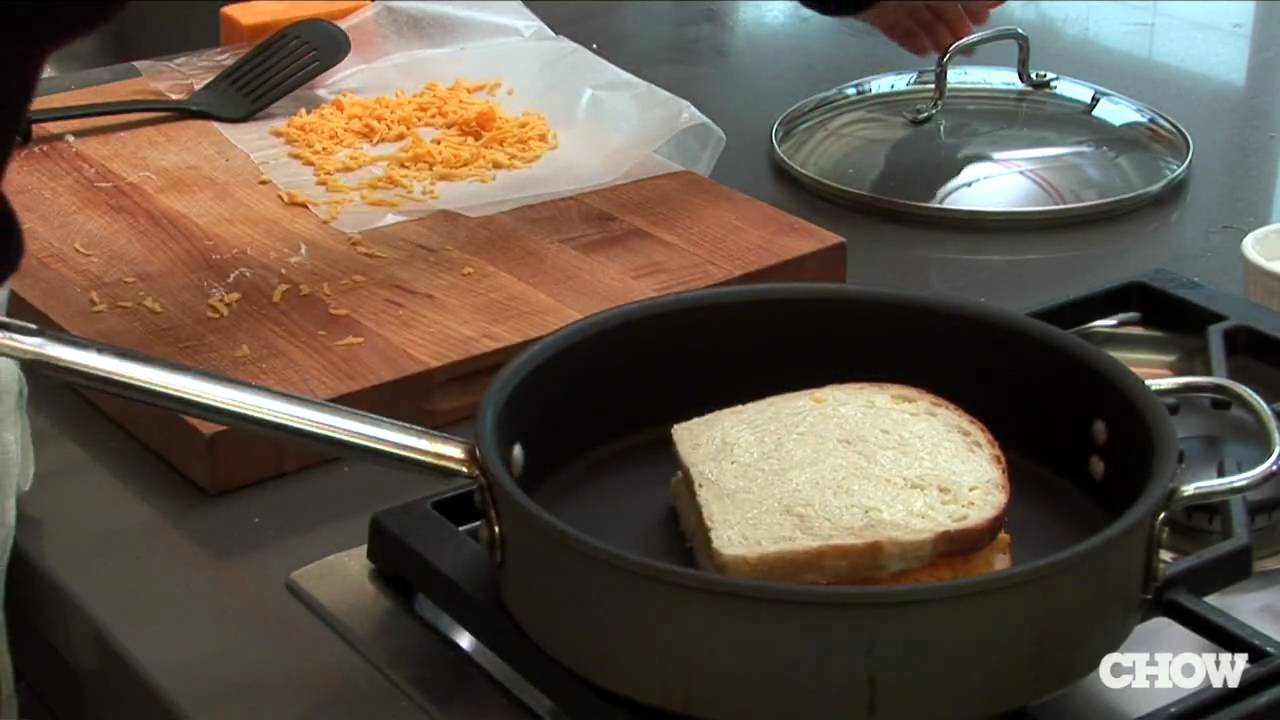cheese: (305, 59, 544, 200)
